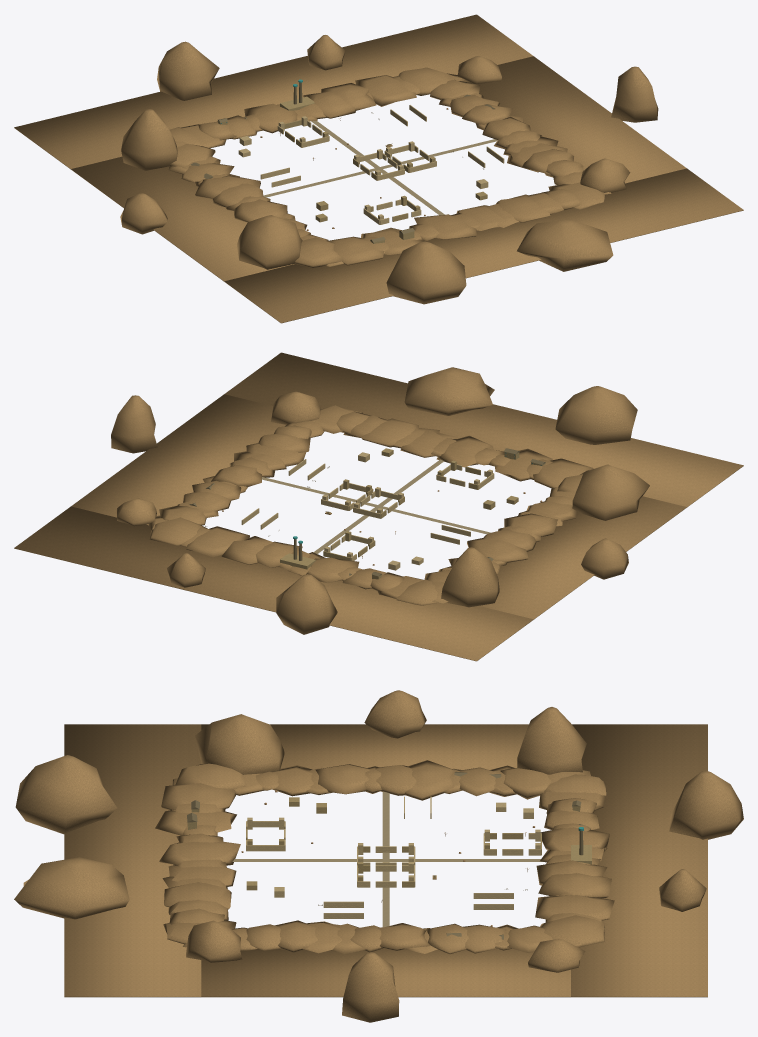
Rendered from sakyuu-lod2.glb.
3 views of the same model, one above another, from view 1: azimuth 30°, elevation 25°; view 2: azimuth 150°, elevation 25°; view 3: azimuth 270°, elevation 25° (orthographic). The views are drawn at different scales.
Parts seen in each view (by area): view 1: HB_sakyuu_LOD2_terrain, HB_sakyuu_LOD2_wall, HB_sakyuu_LOD2_wall_alt, HB_sakyuu_LOD2_road; view 2: HB_sakyuu_LOD2_terrain, HB_sakyuu_LOD2_wall, HB_sakyuu_LOD2_wall_alt, HB_sakyuu_LOD2_road; view 3: HB_sakyuu_LOD2_terrain, HB_sakyuu_LOD2_wall, HB_sakyuu_LOD2_road, HB_sakyuu_LOD2_wall_alt.
Part boxes in pixels (x1,y1,x2,y2): HB_sakyuu_LOD2_terrain: (14,14,743,323); HB_sakyuu_LOD2_wall: (238,105,504,224); HB_sakyuu_LOD2_wall_alt: (218,96,487,243); HB_sakyuu_LOD2_road: (263,120,498,215); HB_sakyuu_LOD2_terrain: (14,352,743,661); HB_sakyuu_LOD2_wall: (241,452,494,570); HB_sakyuu_LOD2_wall_alt: (280,448,545,579); HB_sakyuu_LOD2_road: (262,459,490,553); HB_sakyuu_LOD2_terrain: (14,690,743,1022); HB_sakyuu_LOD2_wall: (246,796,541,918); HB_sakyuu_LOD2_road: (232,791,542,927); HB_sakyuu_LOD2_wall_alt: (187,797,591,939).
Bounding box in the file's own units: 691 × 61.37 × 692.
9 materials, 8 textured.
